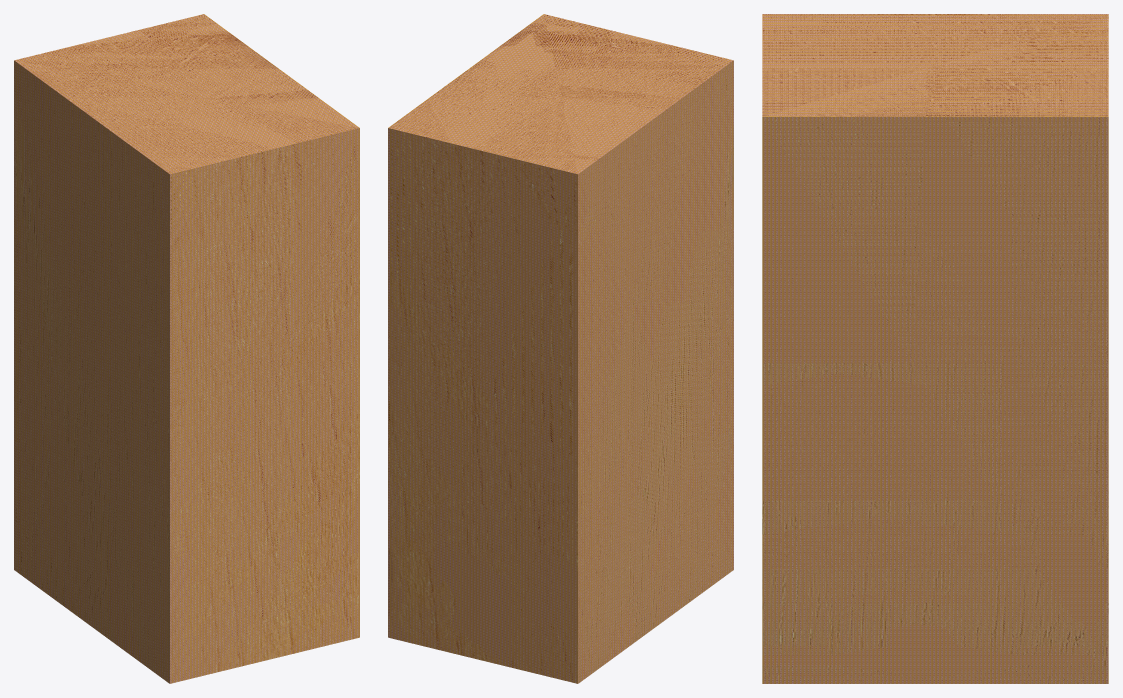
File: jelutung.glb
3 views of the same model, side by side, from view 1: azimuth 30°, elevation 25°; view 2: azimuth 150°, elevation 25°; view 3: azimuth 270°, elevation 25° (orthographic). The views are drawn at different scales.
Visible parts, largest first — view 1: BackSide, FrontSide; view 2: BackSide, FrontSide; view 3: BackSide, FrontSide.
Boxes of the visible parts, x1,y1,x2,y2 form: BackSide: [14, 14, 359, 683]; FrontSide: [14, 15, 359, 679]; BackSide: [388, 14, 733, 683]; FrontSide: [388, 15, 733, 682]; BackSide: [762, 14, 1108, 683]; FrontSide: [762, 14, 1108, 683].
Size of the model in its own units: 1.58 by 4.04 by 2.24.
Materials: 3 (3 with a texture image).
